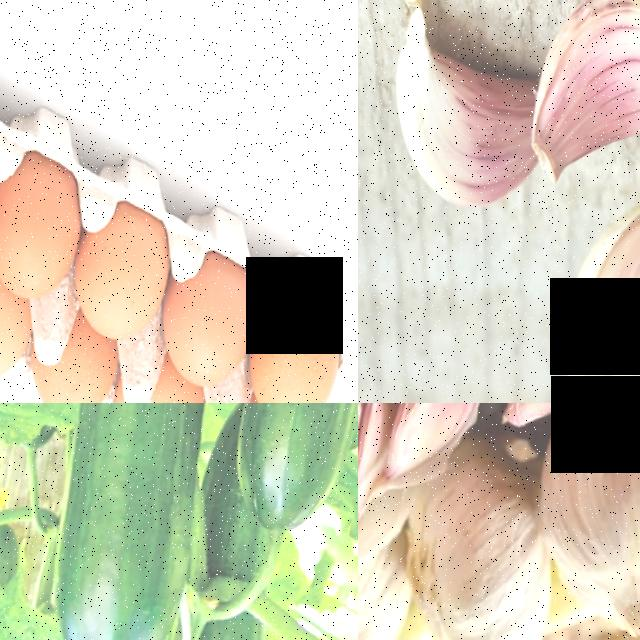cucumber: (53, 403, 216, 640), (229, 403, 358, 539)
egg_: (74, 206, 172, 341), (161, 257, 259, 388), (0, 158, 81, 299), (250, 303, 344, 403), (30, 343, 118, 403), (0, 291, 34, 386), (114, 386, 206, 403)
garlic: (387, 2, 539, 212), (399, 466, 553, 640), (540, 403, 640, 640), (532, 0, 640, 185), (388, 403, 485, 480), (504, 403, 640, 436)
